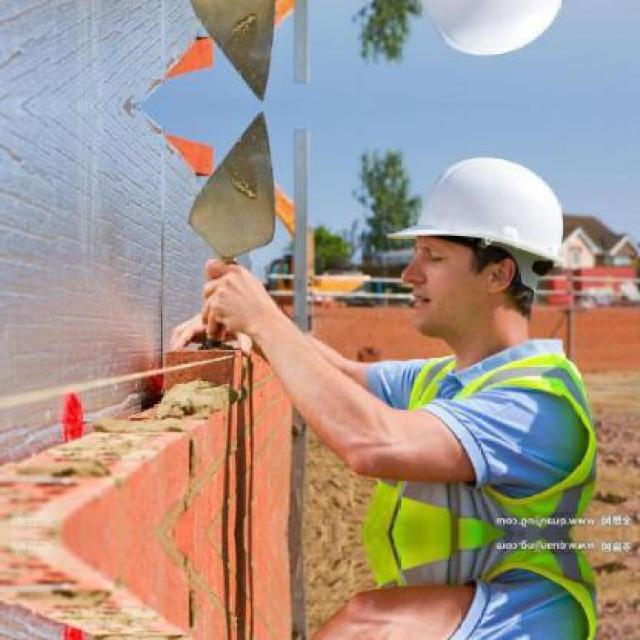Reflective-Jacket: (364, 342, 604, 542)
Safety-Helmet: (388, 150, 577, 278)
